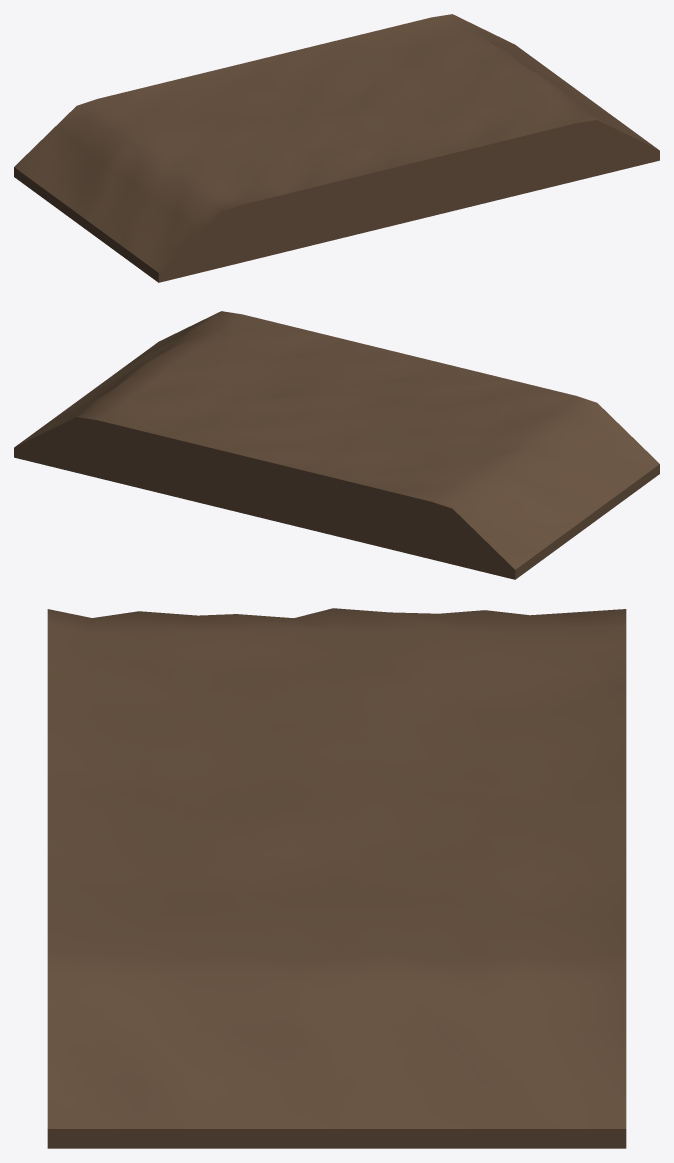
The model's file is body_close.fbx.
3 renders of one model, top to bottom at view 1: azimuth 30°, elevation 25°; view 2: azimuth 150°, elevation 25°; view 3: azimuth 270°, elevation 25°, orthographic. The views are drawn at different scales.
Visible parts, largest first — view 1: p411_BodyClose; view 2: p411_BodyClose; view 3: p411_BodyClose.
Part boxes in pixels (x1,y1,x2,y2): p411_BodyClose: [14, 14, 659, 282]; p411_BodyClose: [14, 311, 659, 579]; p411_BodyClose: [47, 608, 626, 1148].
Size of the model in its own units: 5 by 0.55 by 2.5.
